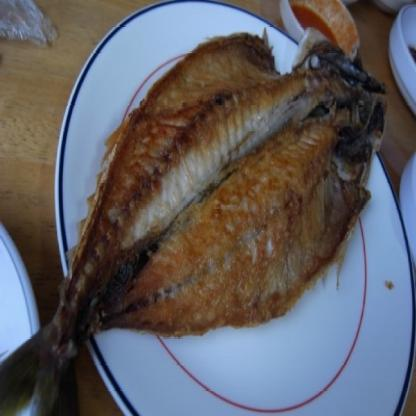Peixe: (0, 43, 400, 416)
